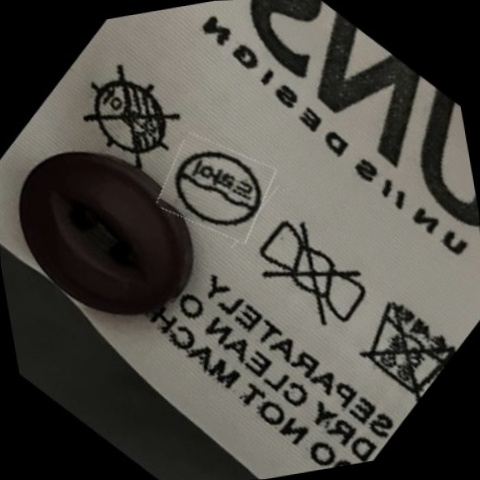DN_dry: (78, 63, 184, 171)
DN_wring: (253, 216, 373, 336)
dry_clean: (169, 139, 265, 239)
hand_wash: (353, 289, 454, 399)
